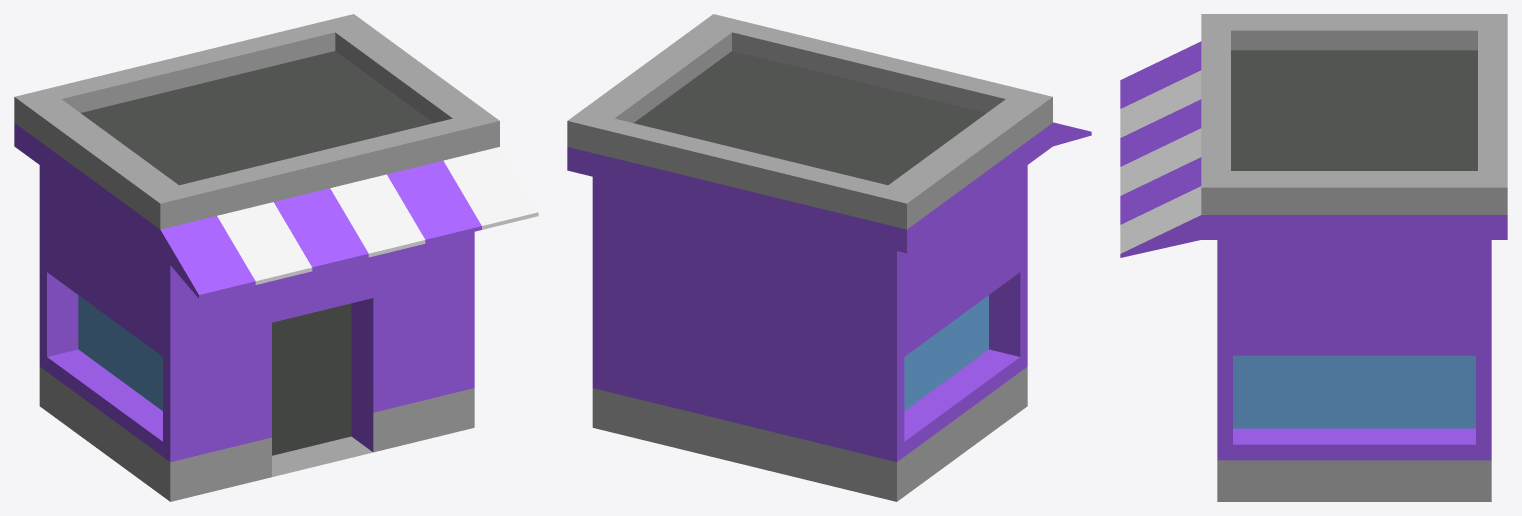
Rendered from building_1x1_1_g.glb.
3 renders of one model, left to right at view 1: azimuth 30°, elevation 25°; view 2: azimuth 150°, elevation 25°; view 3: azimuth 270°, elevation 25°, orthographic. The views are drawn at different scales.
Visible parts, largest first — view 1: Cube; view 2: Cube; view 3: Cube.
Boxes of the visible parts, x1=… form: Cube: x1=14, y1=14, x2=538, y2=501; Cube: x1=567, y1=14, x2=1091, y2=501; Cube: x1=1120, y1=14, x2=1507, y2=501.
Size of the model in its own units: 1.79 by 1.55 by 1.68.
